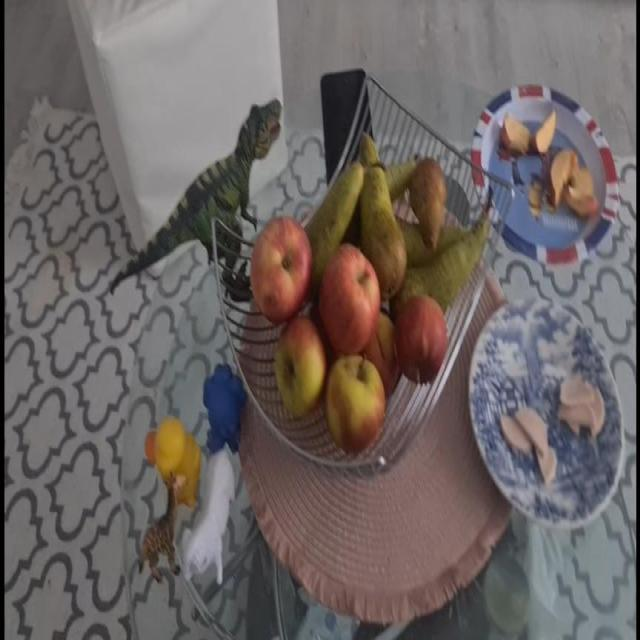hard-toy: (112, 101, 282, 290)
